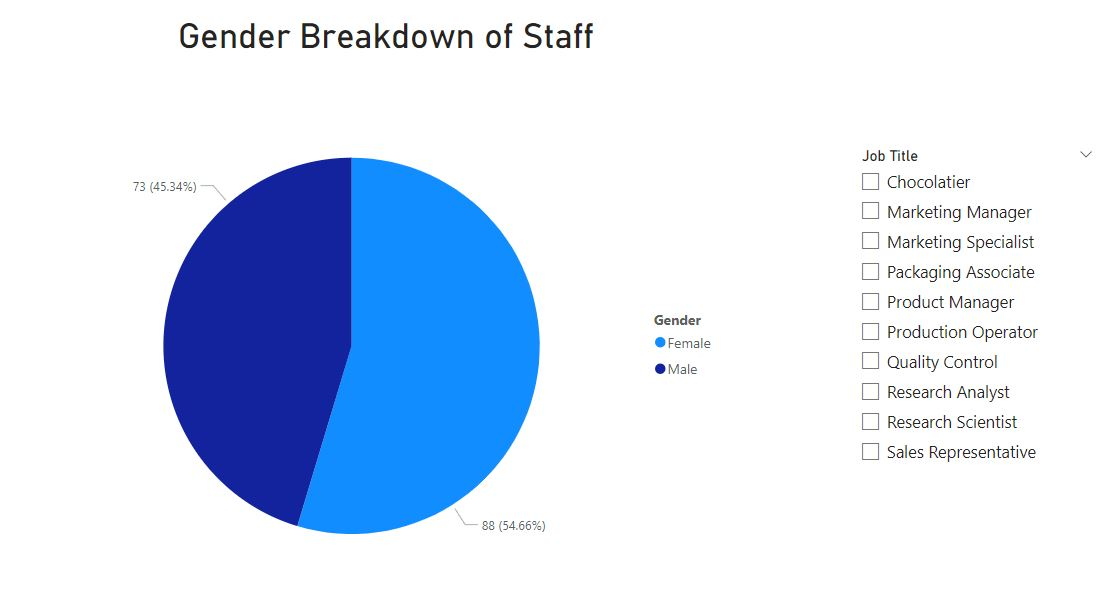

The page's visual inventory and layout, read from the dashboard file:
{"tool":"powerbi","page":{"name":"Q2","canvas":[1280,720],"ordinal":1},"visuals":[{"type":"pieChart","title":"Gender Breakdown of Staff","fields":{"Y":["staff.Total Headcount"],"Category":["staff.Gender"]},"box":[225,59,658.7,601],"z":0},{"type":"slicer","fields":{"Values":["staff.Job Title"]},"box":[1001.7,181.1,248.4,356.8],"z":1000}]}

Visuals, with their boxes in screenshot pixels (x1, y1, x2, y2), scaled from the page's 1280x720 canvas onto the 1101x607 screenshot:
"Gender Breakdown of Staff" pieChart: bbox(194, 50, 760, 556)
slicer - staff.Job Title: bbox(862, 153, 1075, 453)
